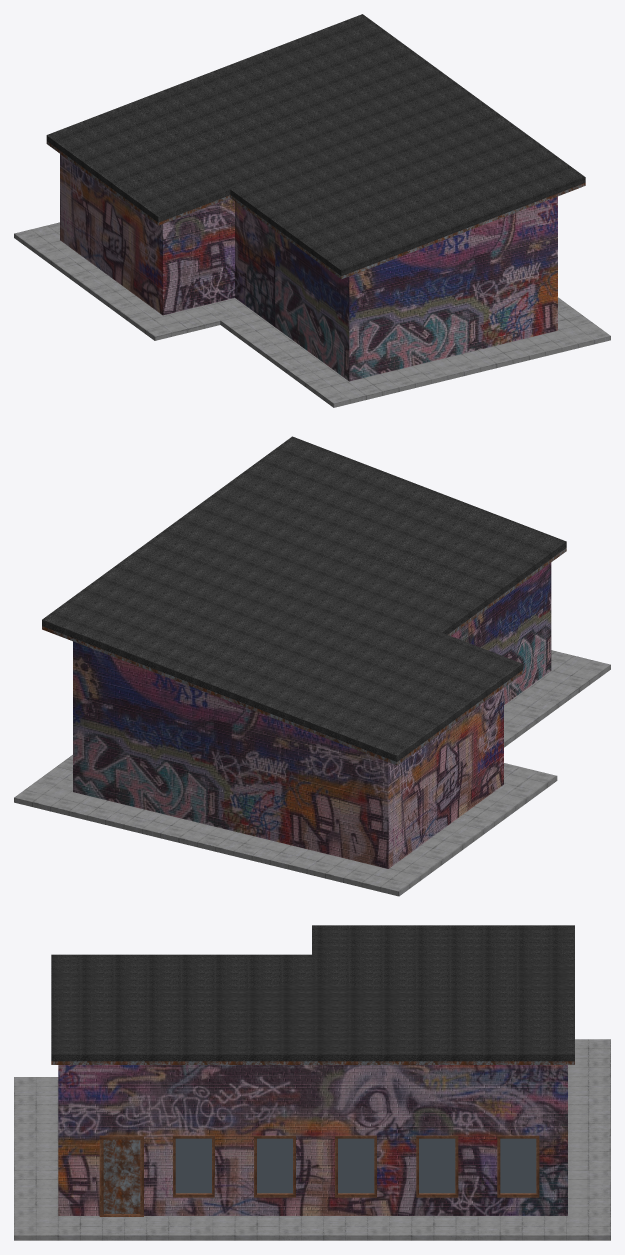
Rendered from building1.fbx.
3 views of the same model, one above another, from view 1: azimuth 30°, elevation 25°; view 2: azimuth 150°, elevation 25°; view 3: azimuth 270°, elevation 25° (orthographic). The views are drawn at different scales.
Parts seen in each view (by area): view 1: Material2.016; view 2: Material2.016; view 3: Material2.016.
Part boxes in pixels (x1,y1,x2,y2): Material2.016: (14, 14, 610, 407); Material2.016: (14, 436, 610, 896); Material2.016: (14, 925, 610, 1240).
Size of the model in its own units: 379 by 162 by 487.
